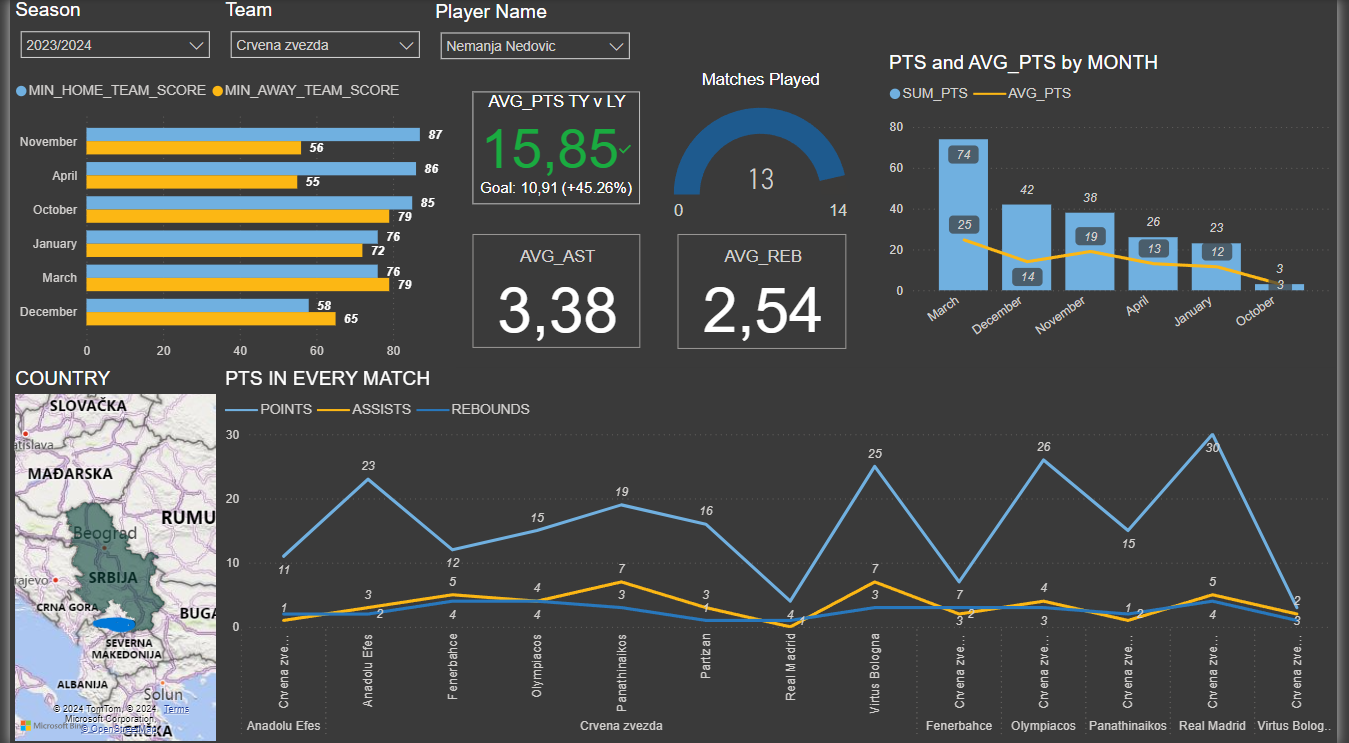

This screenshot's page, from the dashboard's own definition file:
{"tool":"powerbi","page":{"name":"Players_Stat","canvas":[1280,720],"ordinal":0},"visuals":[{"type":"gauge","title":"Matches Played","fields":{"MaxValue":["DIM_MATCH.Max Matches"],"Y":["CountNonNull(FACT_PLAYER_STAT.FACT_PLAYER_STAT_ID)"]},"box":[635.8,68.8,177.3,166.5],"z":0},{"type":"slicer","title":"Player Name","fields":{"Values":["DIM_PLAYER.PLAYER_NAME"]},"box":[404.8,1.4,202.4,67],"z":1000},{"type":"slicer","title":"Season","fields":{"Values":["DIM_MATCH.SEASON"]},"box":[0,0,202.4,68.4],"z":2000},{"type":"slicer","title":"Team","fields":{"Values":["DIM_TEAM.TEAM_NAME"]},"box":[202.4,0,202.4,68.4],"z":3000},{"type":"filledMap","title":"COUNTRY","fields":{"Category":["DIM_TEAM.COUNTRY_NAME"]},"box":[0,355.4,203.1,365],"z":4000},{"type":"cardVisual","fields":{"Data":["Avg(FACT_PLAYER_STAT.ASSISTS)"]},"box":[441.6,222,172.5,120.6],"z":5000},{"type":"cardVisual","title":"AVG_REB","fields":{"Data":["Avg(FACT_PLAYER_STAT.REBOUNDS)"]},"box":[639.4,222,173.7,121.9],"z":6000},{"type":"lineClusteredColumnComboChart","title":"PTS and AVG_PTS by MONTH","fields":{"Y2":["Avg(FACT_PLAYER_STAT.POINTS)"],"Category":["DIM_DATE.MONTH_NAME"],"Y":["Sum(FACT_PLAYER_STAT.POINTS)"]},"box":[843.3,50.7,436.7,294.4],"z":7000},{"type":"lineChart","title":"PTS IN EVERY MATCH","fields":{"Category":["DIM_MATCH.HOME_TEAM","DIM_MATCH.AWAY_TEAM"],"Y":["Sum(FACT_PLAYER_STAT.POINTS)","Sum(FACT_PLAYER_STAT.ASSISTS)","Sum(FACT_PLAYER_STAT.REBOUNDS)"]},"box":[203.1,355.4,1077.2,365],"z":8000},{"type":"clusteredBarChart","fields":{"Category":["DIM_DATE.MONTH_NAME"],"Y":["Min(FACT_PLAYER_STAT.HOME_TEAM_SCORE)","Min(FACT_PLAYER_STAT.AWAY_TEAM_SCORE)"]},"box":[0,68.8,430.7,287.1],"z":9000},{"type":"kpi","title":"AVG_PTS TY v LY","fields":{"TrendLine":["DIM_MATCH.SEASON"],"Goal":["FACT_PLAYER_STAT.Previous Season Average Points"],"Indicator":["Avg(FACT_PLAYER_STAT.POINTS)"]},"box":[446.4,89.3,161.7,108.6],"z":10000}]}

Visuals, with their boxes in screenshot pixels (x1, y1, x2, y2), scaled from the page's 1280x720 canvas onto the 1349x743 screenshot:
"Matches Played" gauge: locate(670, 71, 857, 243)
"Player Name" slicer: locate(427, 1, 640, 71)
"Season" slicer: locate(0, 0, 213, 71)
"Team" slicer: locate(213, 0, 427, 71)
"COUNTRY" filledMap: locate(0, 367, 214, 742)
cardVisual - Avg(FACT_PLAYER_STAT.ASSISTS): locate(465, 229, 647, 354)
"AVG_REB" cardVisual: locate(674, 229, 857, 355)
"PTS and AVG_PTS by MONTH" lineClusteredColumnComboChart: locate(889, 52, 1348, 356)
"PTS IN EVERY MATCH" lineChart: locate(214, 367, 1348, 742)
clusteredBarChart - DIM_DATE.MONTH_NAME x Min(FACT_PLAYER_STAT.HOME_TEAM_SCORE): locate(0, 71, 454, 367)
"AVG_PTS TY v LY" kpi: locate(470, 92, 641, 204)
